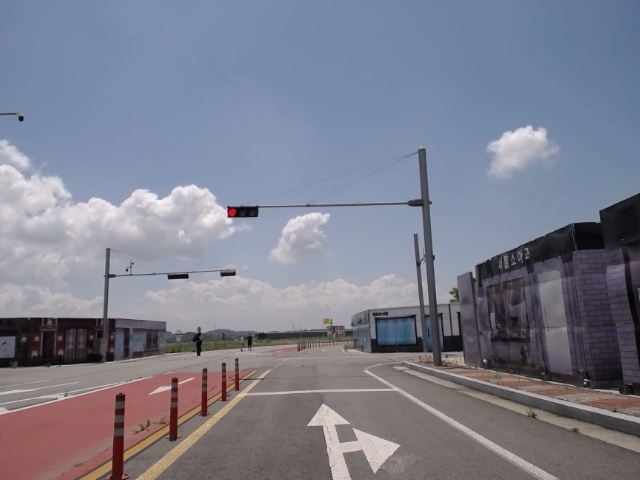red_3: (227, 207, 258, 218)
